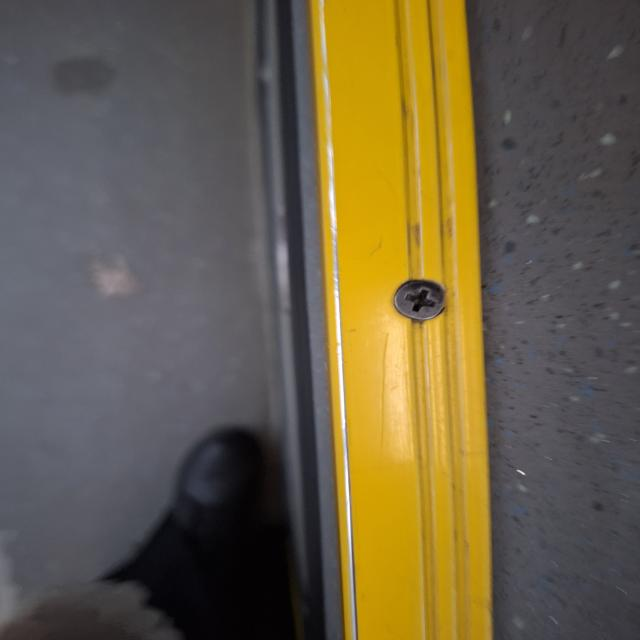Phillips: (391, 281, 450, 321)
